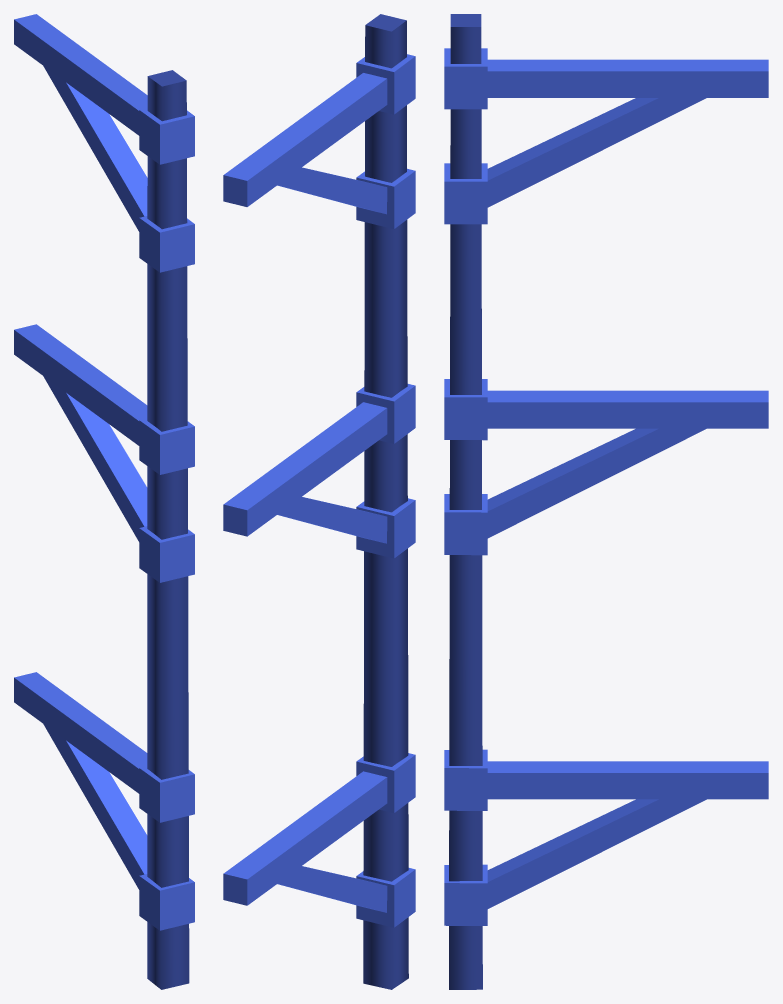
Rendered from SignHolder_5_B.fbx.
The picture shows the model from 3 angles, left to right: view 1: azimuth 30°, elevation 25°; view 2: azimuth 150°, elevation 25°; view 3: azimuth 270°, elevation 25°; orthographic projection. The views are drawn at different scales.
Parts seen in each view (by area): view 1: SignHolder_5_B; view 2: SignHolder_5_B; view 3: SignHolder_5_B.
Part boxes in pixels (<box>): SignHolder_5_B: <box>14,14,194,989</box>; SignHolder_5_B: <box>223,14,415,989</box>; SignHolder_5_B: <box>444,14,768,989</box>.
Size of the model in its own units: 8.95 by 217 by 66.26.
